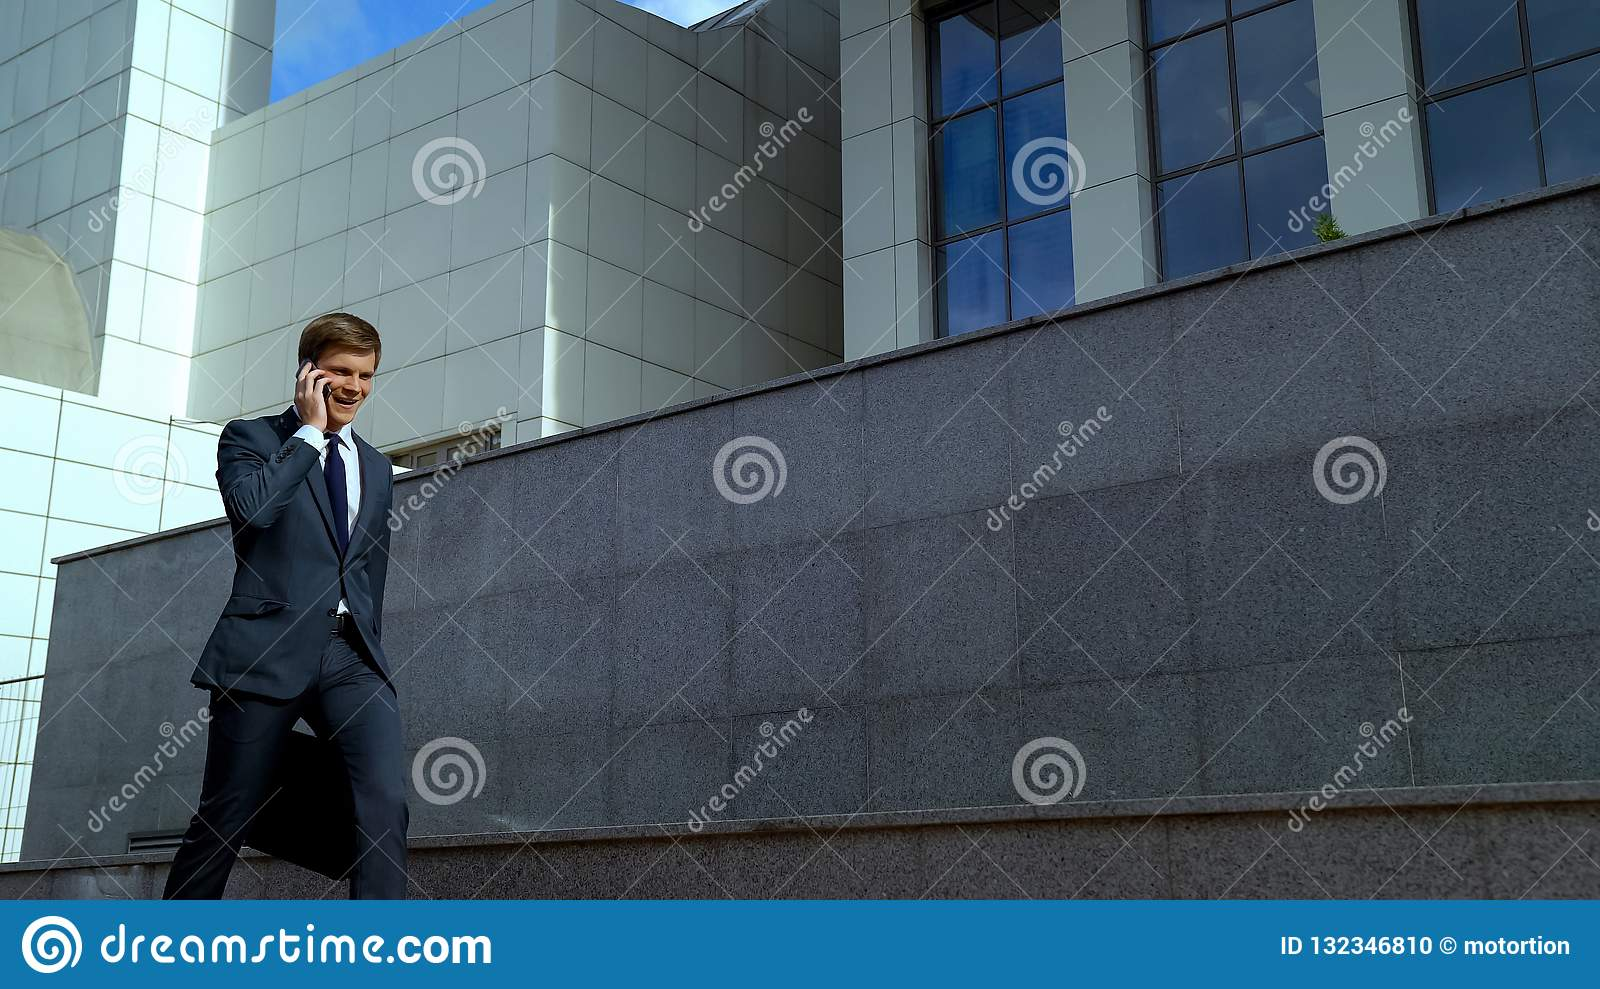phone: (296, 360, 335, 413)
talk: (293, 356, 375, 438)
